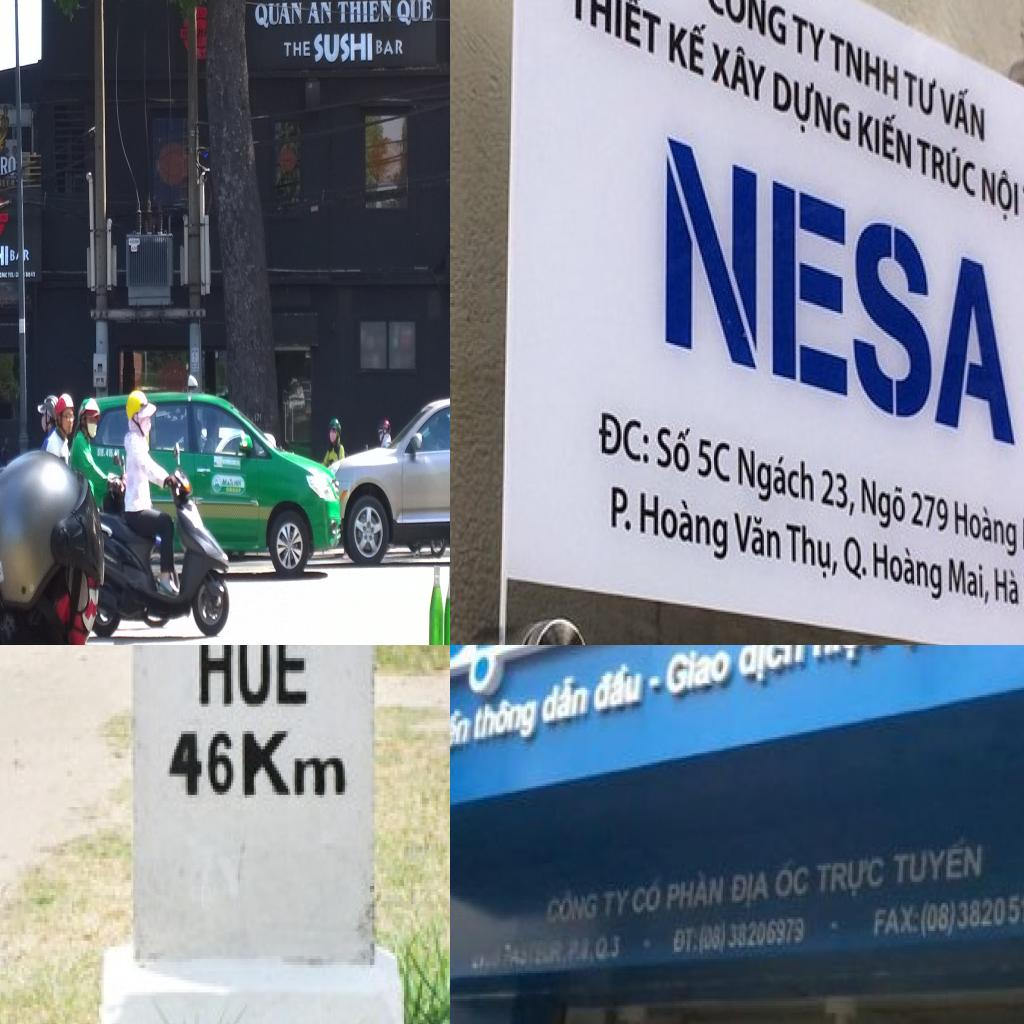text: (658, 130, 1024, 457), (238, 722, 352, 804), (192, 645, 321, 715), (637, 480, 732, 570), (770, 64, 855, 152), (737, 438, 817, 518), (165, 725, 240, 804), (870, 536, 946, 612), (567, 0, 665, 58), (831, 24, 902, 104), (698, 912, 808, 959), (892, 830, 984, 886), (469, 688, 543, 756), (916, 125, 978, 205), (954, 492, 1022, 562), (707, 32, 773, 104), (704, 0, 791, 52), (856, 100, 916, 172), (784, 520, 841, 590), (594, 404, 654, 470), (665, 645, 736, 699), (732, 500, 784, 570), (816, 854, 888, 903), (664, 6, 711, 80), (940, 78, 990, 146), (859, 470, 911, 534), (665, 865, 728, 917), (592, 657, 645, 716), (944, 548, 994, 610), (737, 645, 810, 687), (980, 157, 1022, 229), (540, 672, 592, 726), (655, 416, 694, 482), (909, 484, 952, 540), (820, 462, 858, 524), (545, 884, 601, 926), (903, 60, 940, 122), (696, 428, 734, 488), (791, 6, 829, 64), (810, 645, 888, 671), (726, 870, 774, 912), (872, 901, 923, 940), (312, 33, 374, 64), (774, 854, 812, 903), (608, 480, 638, 538), (450, 704, 474, 772), (843, 528, 870, 588), (990, 560, 1022, 610), (629, 877, 665, 919), (336, 0, 392, 25), (254, 0, 302, 29), (600, 886, 634, 922), (670, 924, 702, 957), (396, 0, 434, 26), (594, 933, 625, 964), (305, 0, 332, 25), (283, 40, 311, 58), (376, 39, 404, 56), (0, 156, 16, 178), (0, 243, 9, 267), (222, 478, 242, 488), (96, 448, 114, 459), (0, 178, 15, 188), (226, 487, 242, 494), (23, 248, 30, 262), (10, 248, 16, 262), (25, 271, 36, 278), (0, 270, 7, 279), (8, 272, 16, 278), (15, 272, 19, 278)
